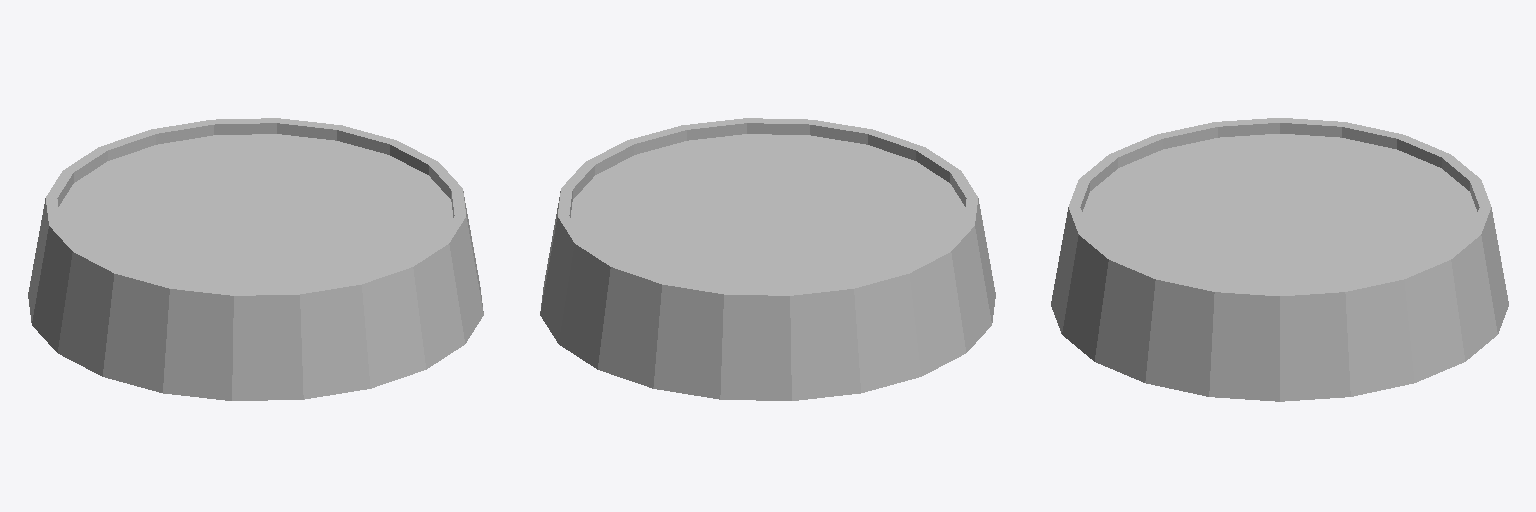
File: clock.obj
3 views of the same model, side by side, from view 1: azimuth 30°, elevation 25°; view 2: azimuth 150°, elevation 25°; view 3: azimuth 270°, elevation 25° (orthographic).
Visible parts, largest first — view 1: Cylinder001; view 2: Cylinder001; view 3: Cylinder001.
Boxes of the visible parts, x1,y1,x2,y2 form: Cylinder001: [28, 118, 483, 400]; Cylinder001: [540, 118, 995, 400]; Cylinder001: [1051, 118, 1508, 401].
Size of the model in its own units: 22.29 by 5.25 by 22.29.